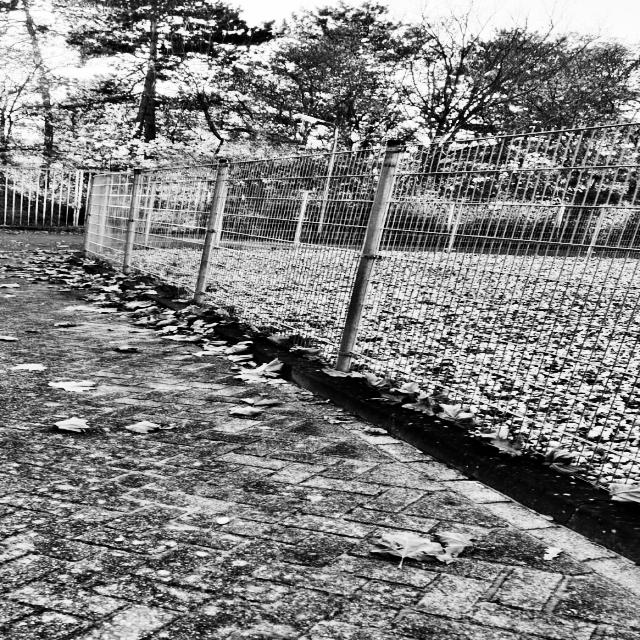fences: (56, 120, 640, 474)
